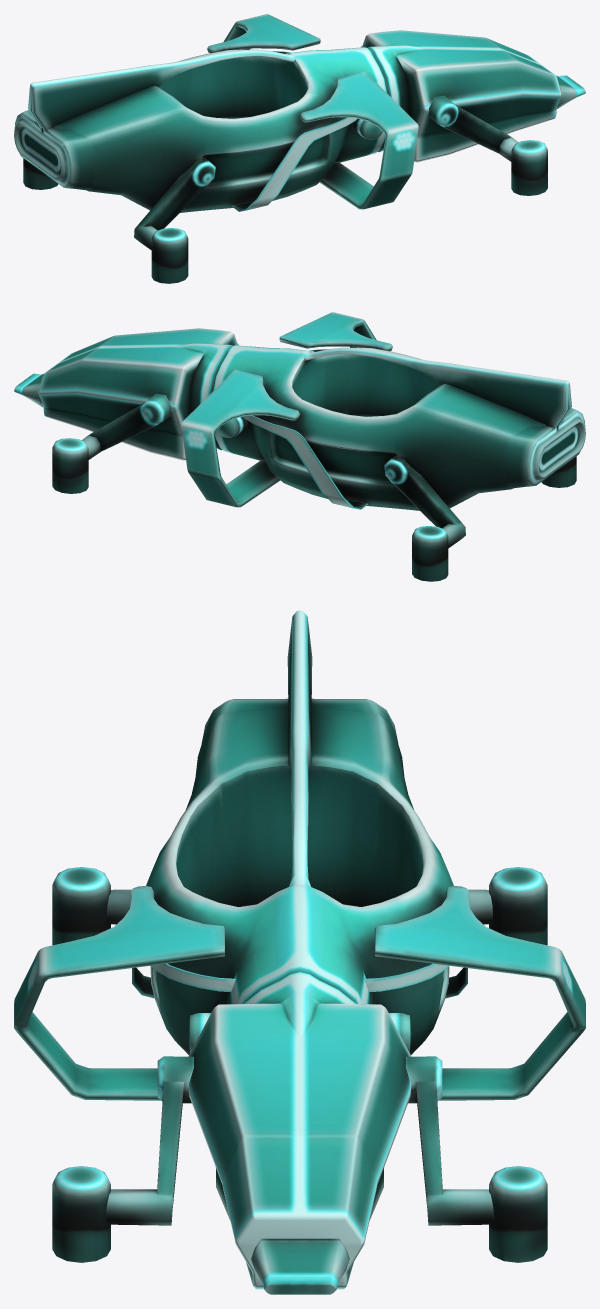
File: f1_car_tron_05.dae
3 renders of one model, top to bottom at view 1: azimuth 30°, elevation 25°; view 2: azimuth 150°, elevation 25°; view 3: azimuth 270°, elevation 25°, orthographic. The views are drawn at different scales.
Parts seen in each view (by area): view 1: Tron_Car; view 2: Tron_Car; view 3: Tron_Car.
Part boxes in pixels (bbox=[...]): Tron_Car: bbox=[14, 14, 585, 283]; Tron_Car: bbox=[14, 312, 585, 581]; Tron_Car: bbox=[14, 610, 585, 1294].
Size of the model in its own units: 0.2933 by 0.1566 by 0.0845.
1 material, 1 textured.
